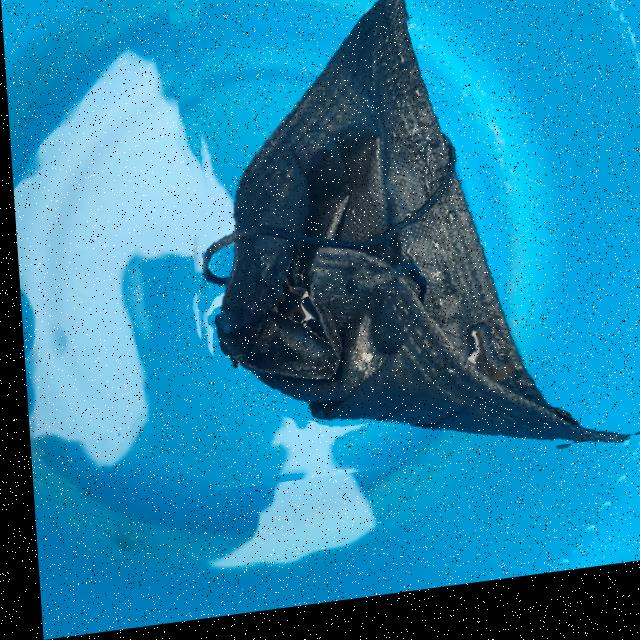mask: (166, 0, 640, 498)
